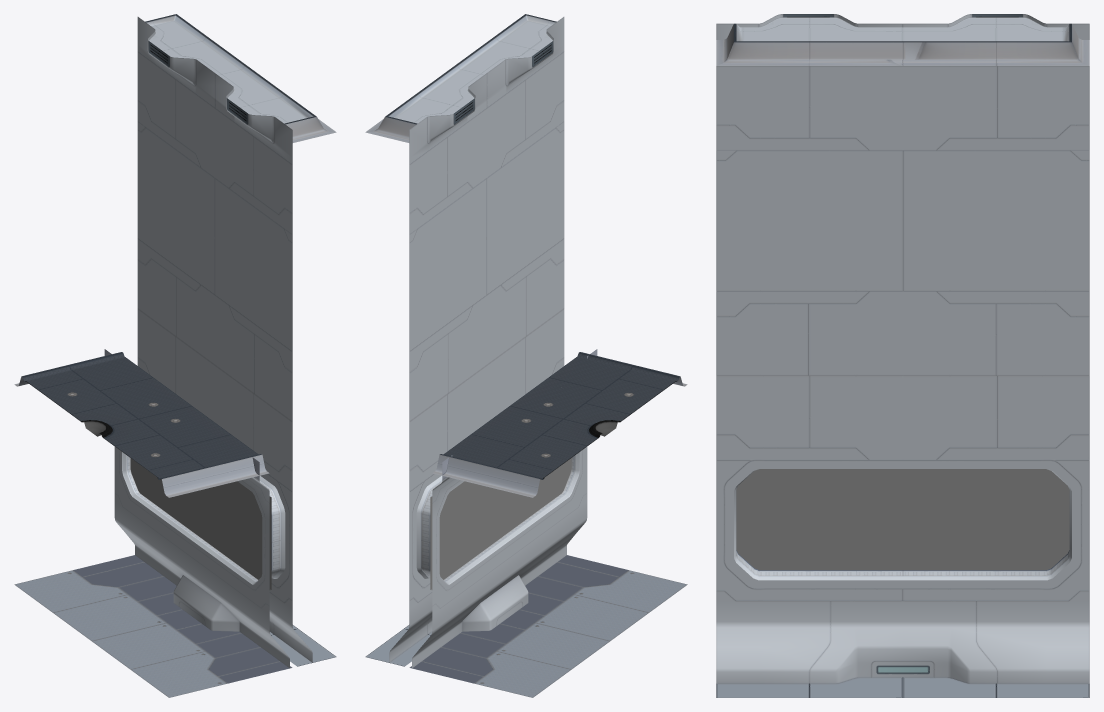
Rendered from Room_A_4m_window_wall_tall.fbx.
The picture shows the model from 3 angles, left to right: view 1: azimuth 30°, elevation 25°; view 2: azimuth 150°, elevation 25°; view 3: azimuth 270°, elevation 25°; orthographic projection. The views are drawn at different scales.
Visible parts, largest first — view 1: Room_A_4m_window_wall_tall; view 2: Room_A_4m_window_wall_tall; view 3: Room_A_4m_window_wall_tall.
Part boxes in pixels (box(x1,y1,x2,y2)): Room_A_4m_window_wall_tall: box(14, 14, 336, 697); Room_A_4m_window_wall_tall: box(365, 14, 687, 697); Room_A_4m_window_wall_tall: box(716, 14, 1089, 697).
Size of the model in its own units: 250 by 766 by 400.
Materials: 9 (8 with a texture image).
